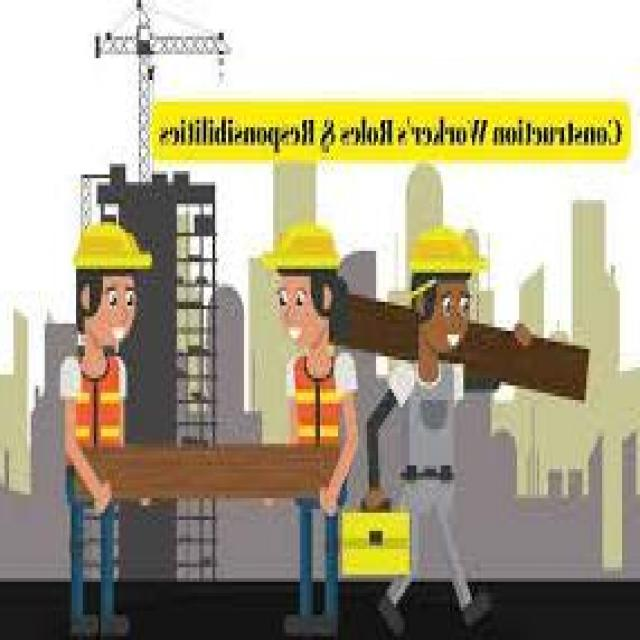Reflective-Jacket: (280, 335, 367, 520), (65, 349, 134, 473)
Safety-Helmet: (253, 203, 356, 294), (62, 208, 156, 288), (406, 222, 501, 301)
